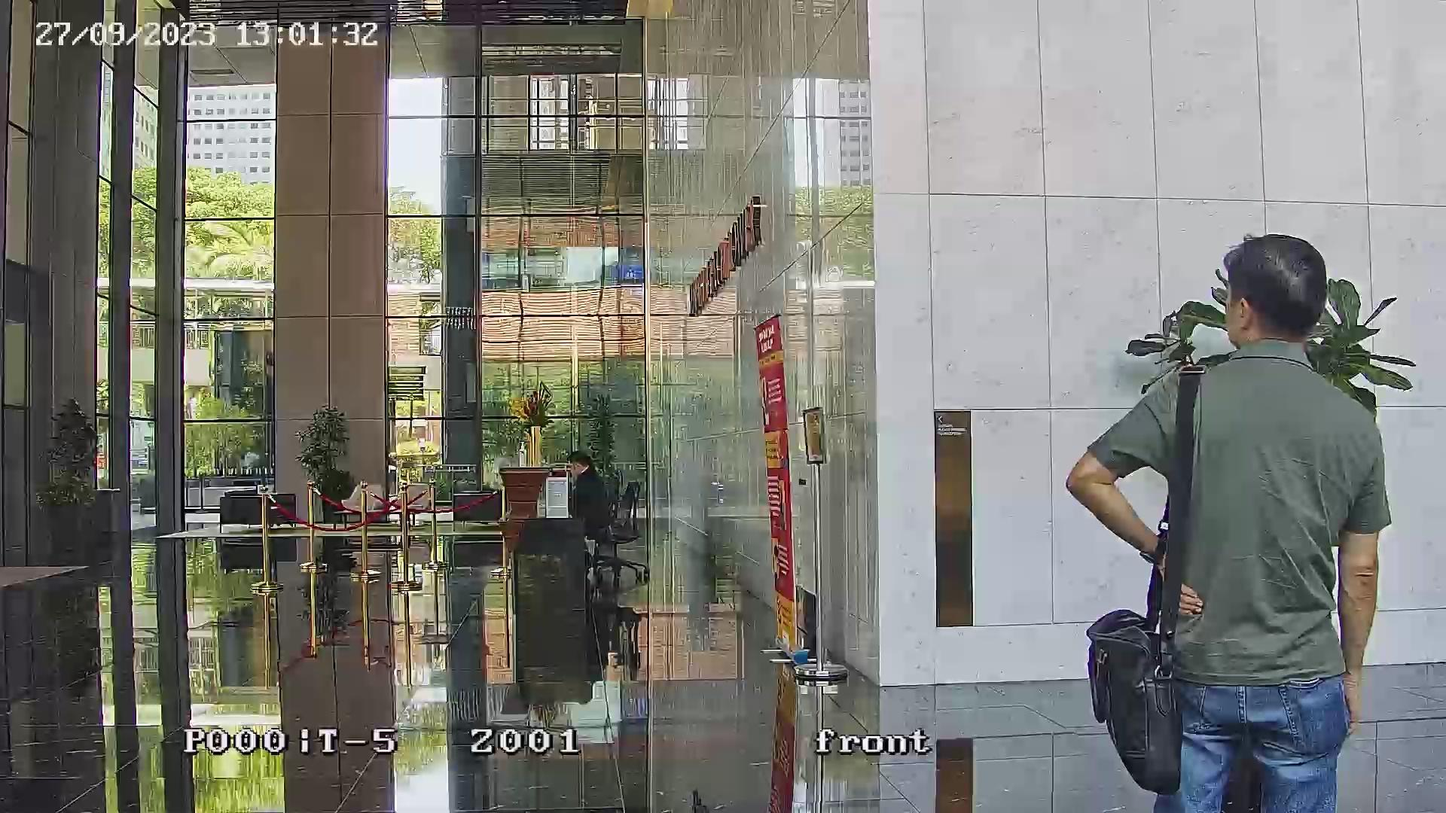person: (1064, 236, 1394, 805), (563, 453, 614, 527)
